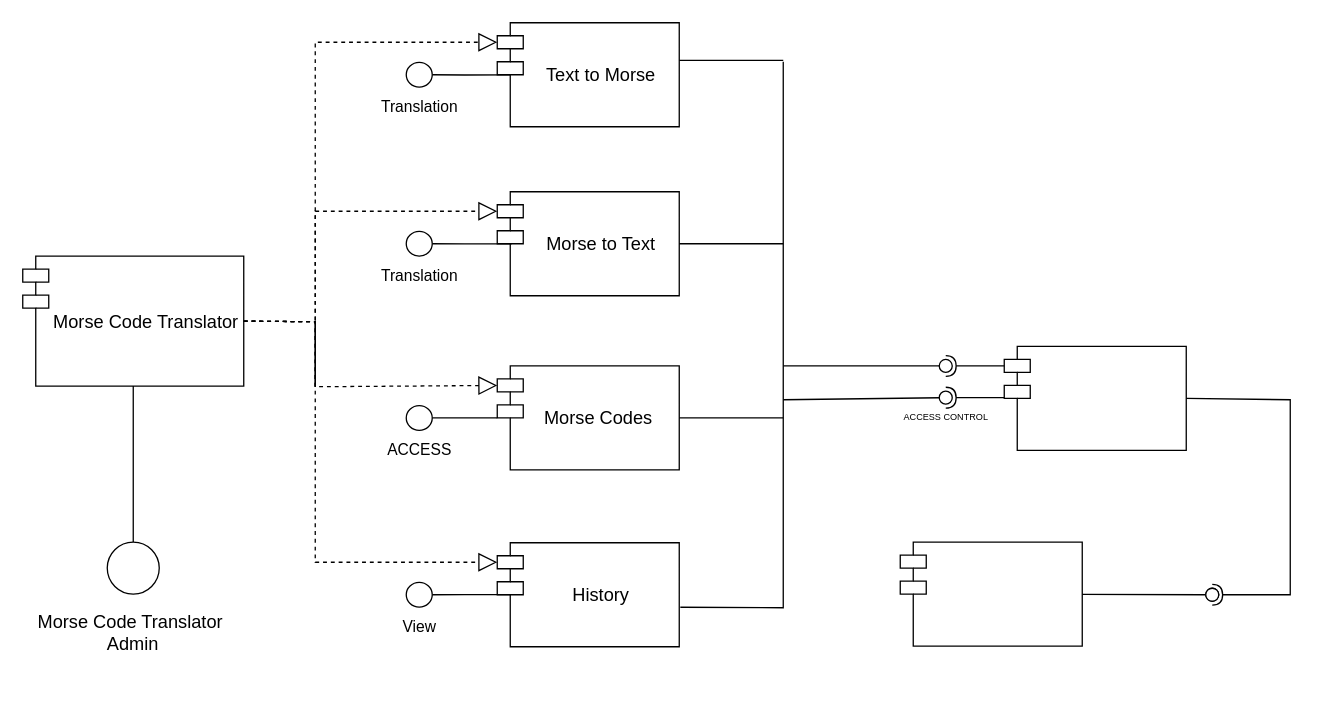
Some shapes in this 1323 by 706 pixel diagram are drawn without their labels. The box of each missing label's shape, as (x1, y1, x2, y2) in pixels:
Database: (899, 541, 1082, 646)
JDBC: (1003, 345, 1186, 450)
